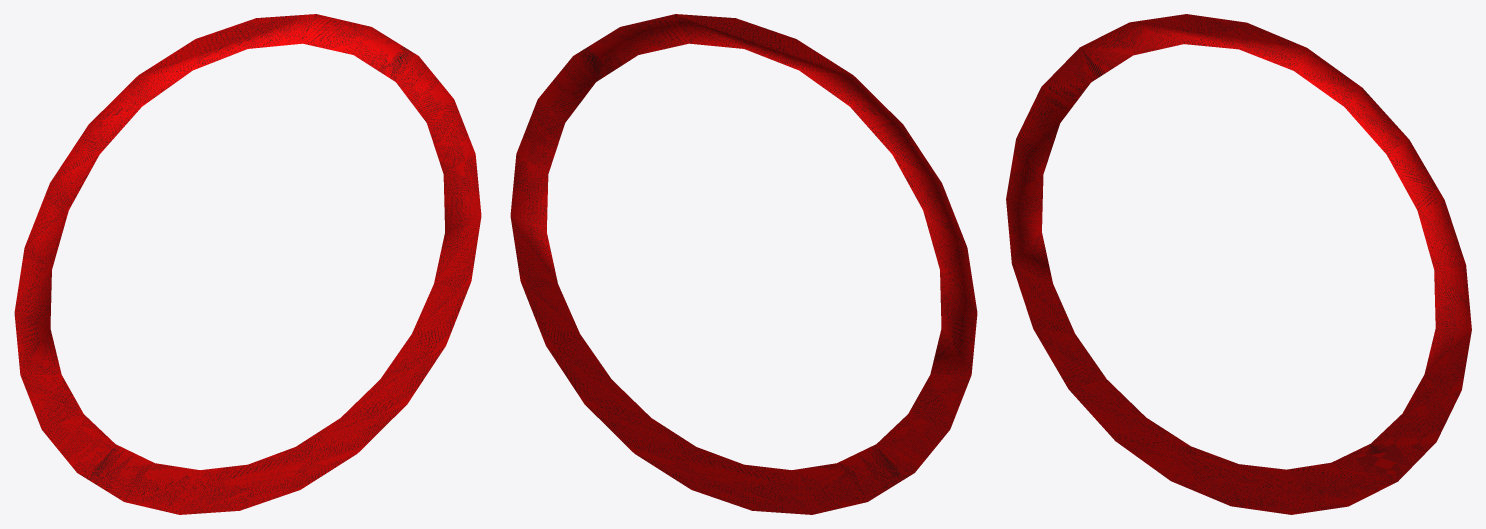
The model's file is original-118.obj.
3 views of the same model, side by side, from view 1: azimuth 30°, elevation 25°; view 2: azimuth 150°, elevation 25°; view 3: azimuth 330°, elevation 25° (orthographic).
Parts seen in each view (by area): view 1: mesh50/mesh50-geometry/material_5/component_0#mesh50-geometry; view 2: mesh50/mesh50-geometry/material_5/component_0#mesh50-geometry; view 3: mesh50/mesh50-geometry/material_5/component_0#mesh50-geometry.
Boxes of the visible parts, x1=… form: mesh50/mesh50-geometry/material_5/component_0#mesh50-geometry: x1=14, y1=14, x2=481, y2=514; mesh50/mesh50-geometry/material_5/component_0#mesh50-geometry: x1=510, y1=14, x2=977, y2=514; mesh50/mesh50-geometry/material_5/component_0#mesh50-geometry: x1=1006, y1=14, x2=1471, y2=514.
Bounding box in the file's own units: 0.648 × 0.648 × 0.
